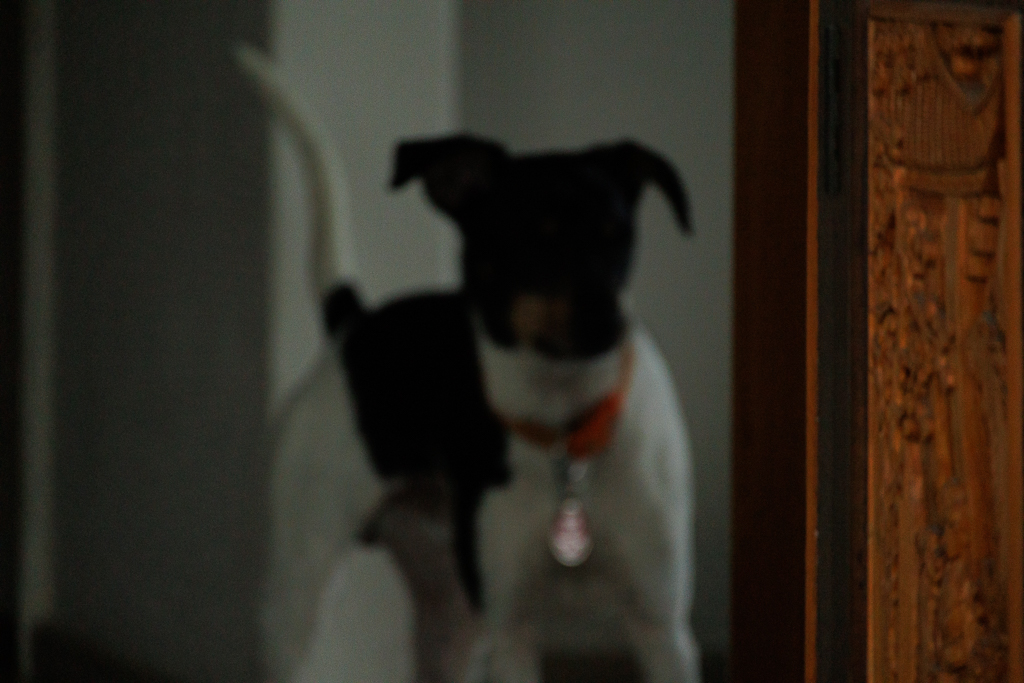Dog: (211, 36, 725, 683)
